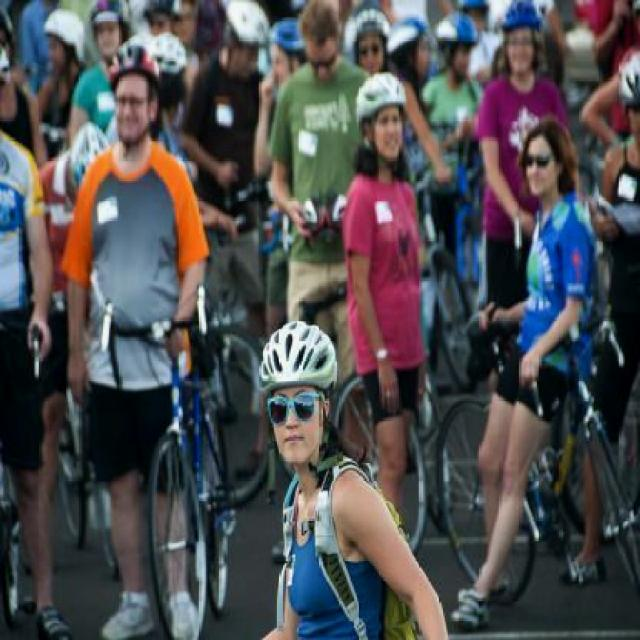face_nomask: (272, 388, 319, 450), (372, 110, 406, 156), (116, 92, 149, 133), (521, 152, 553, 194), (508, 32, 540, 70)
glasses: (264, 388, 324, 428), (520, 147, 554, 175)
hand_noglove: (21, 306, 59, 362), (376, 364, 404, 414), (514, 347, 548, 388)
head_helmet: (256, 316, 344, 390), (352, 68, 410, 118), (502, 0, 549, 40), (435, 8, 480, 48)
head_nohelmet: (298, 0, 345, 49), (526, 113, 574, 150)
person: (460, 124, 594, 640), (93, 44, 208, 640), (246, 309, 426, 640), (350, 73, 424, 569), (277, 0, 372, 357), (115, 36, 157, 90)
shoes: (98, 586, 158, 640), (451, 576, 502, 630), (163, 586, 205, 640)
